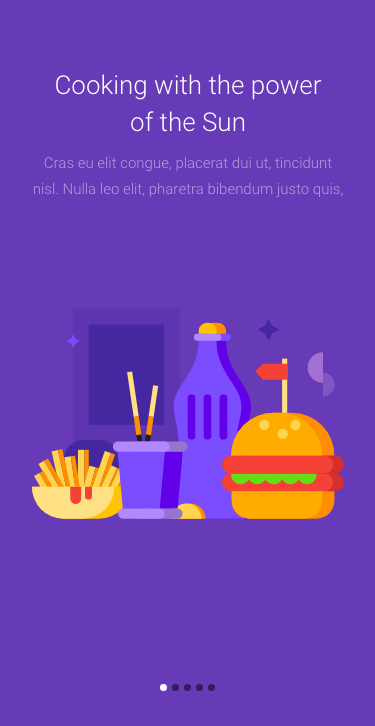Image: (32, 307, 345, 520)
PageIndicator: (159, 682, 217, 693)
Text: (56, 74, 322, 133), (34, 156, 344, 199)
